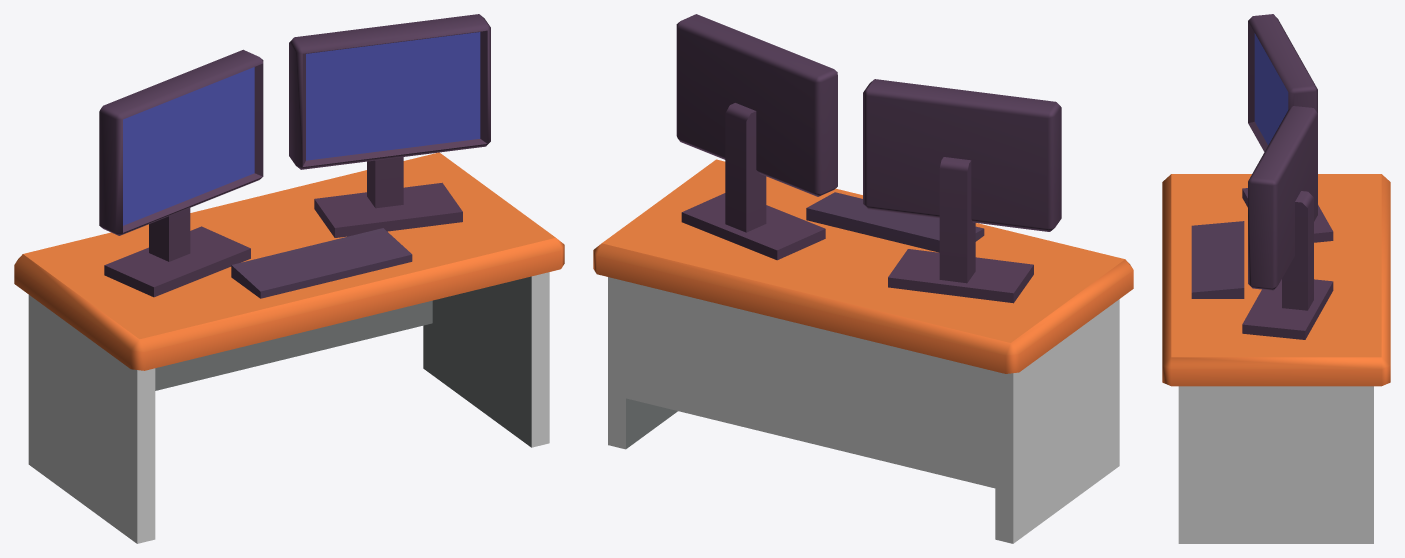
The model's file is table pc.fbx.
3 renders of one model, left to right at view 1: azimuth 30°, elevation 25°; view 2: azimuth 150°, elevation 25°; view 3: azimuth 270°, elevation 25°, orthographic. The views are drawn at different scales.
Visible parts, largest first — view 1: tablepc; view 2: tablepc; view 3: tablepc.
Boxes of the visible parts, <box> form: tablepc: <box>14,14,564,543</box>; tablepc: <box>593,14,1133,543</box>; tablepc: <box>1162,14,1390,543</box>.
Size of the model in its own units: 128 by 112 by 64.83.
1 material, 1 textured.
